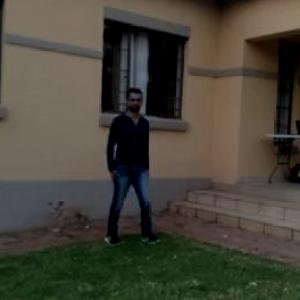follow: (98, 87, 151, 247)
